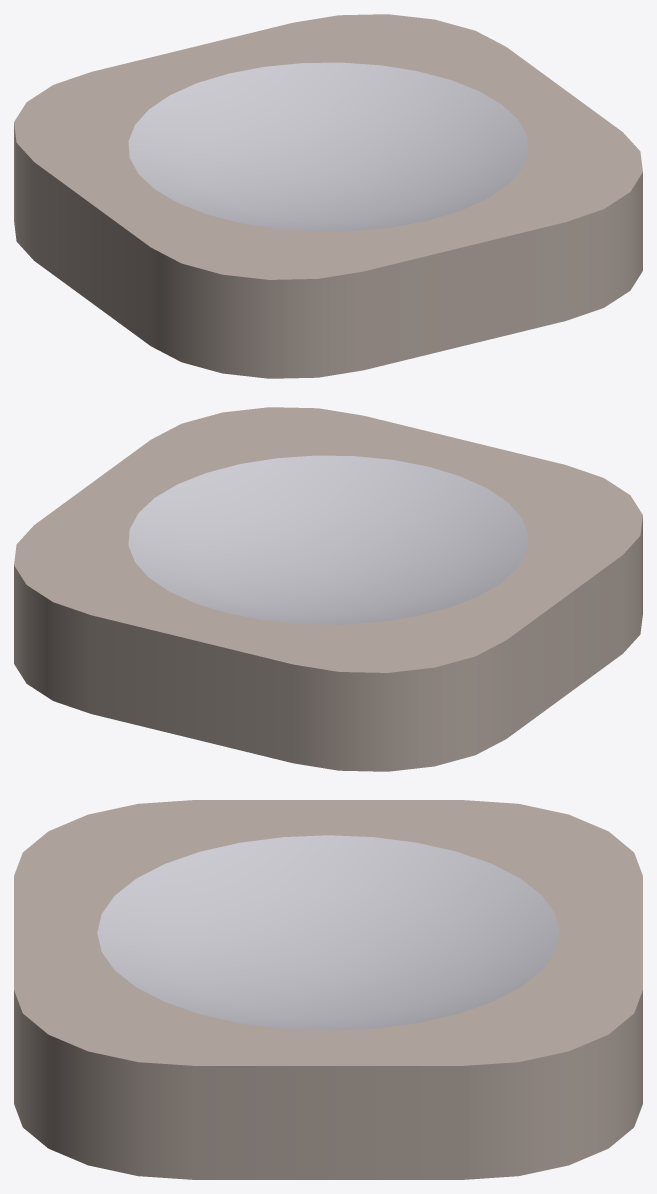
The model's file is watchcharge.glb.
3 renders of one model, top to bottom at view 1: azimuth 30°, elevation 25°; view 2: azimuth 150°, elevation 25°; view 3: azimuth 270°, elevation 25°, orthographic. The views are drawn at different scales.
Parts seen in each view (by area): view 1: Powerbank; view 2: Powerbank; view 3: Powerbank.
Boxes of the visible parts, box(x1,y1,x2,y2) form: Powerbank: box(14, 14, 642, 378); Powerbank: box(14, 407, 642, 771); Powerbank: box(14, 800, 642, 1179).
Bounding box in the file's own units: 0.035 × 0.00948 × 0.035.
